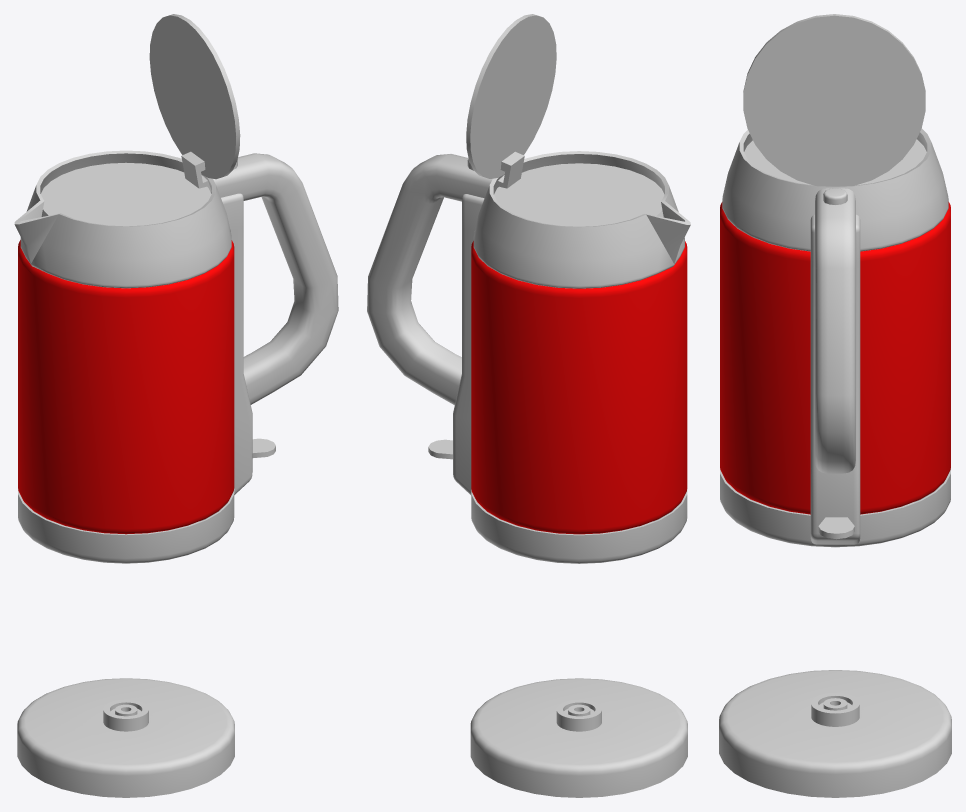
The model's file is teapot.fbx.
3 renders of one model, left to right at view 1: azimuth 30°, elevation 25°; view 2: azimuth 150°, elevation 25°; view 3: azimuth 270°, elevation 25°, orthographic. The views are drawn at different scales.
Parts seen in each view (by area): view 1: Teapot, Object001, WaterTeapot; view 2: Teapot, Object001, WaterTeapot; view 3: Teapot, Object001, WaterTeapot.
Boxes of the visible parts, x1=… form: Teapot: x1=14, y1=14, x2=338, y2=563; Object001: x1=17, y1=678, x2=234, y2=797; WaterTeapot: x1=40, y1=162, x2=211, y2=226; Teapot: x1=367, y1=14, x2=690, y2=563; Object001: x1=470, y1=678, x2=687, y2=797; WaterTeapot: x1=494, y1=163, x2=664, y2=226; Teapot: x1=720, y1=14, x2=950, y2=547; Object001: x1=719, y1=670, x2=951, y2=797; WaterTeapot: x1=744, y1=139, x2=926, y2=185.
Bounding box in the file's own units: 313 × 672 × 185.
